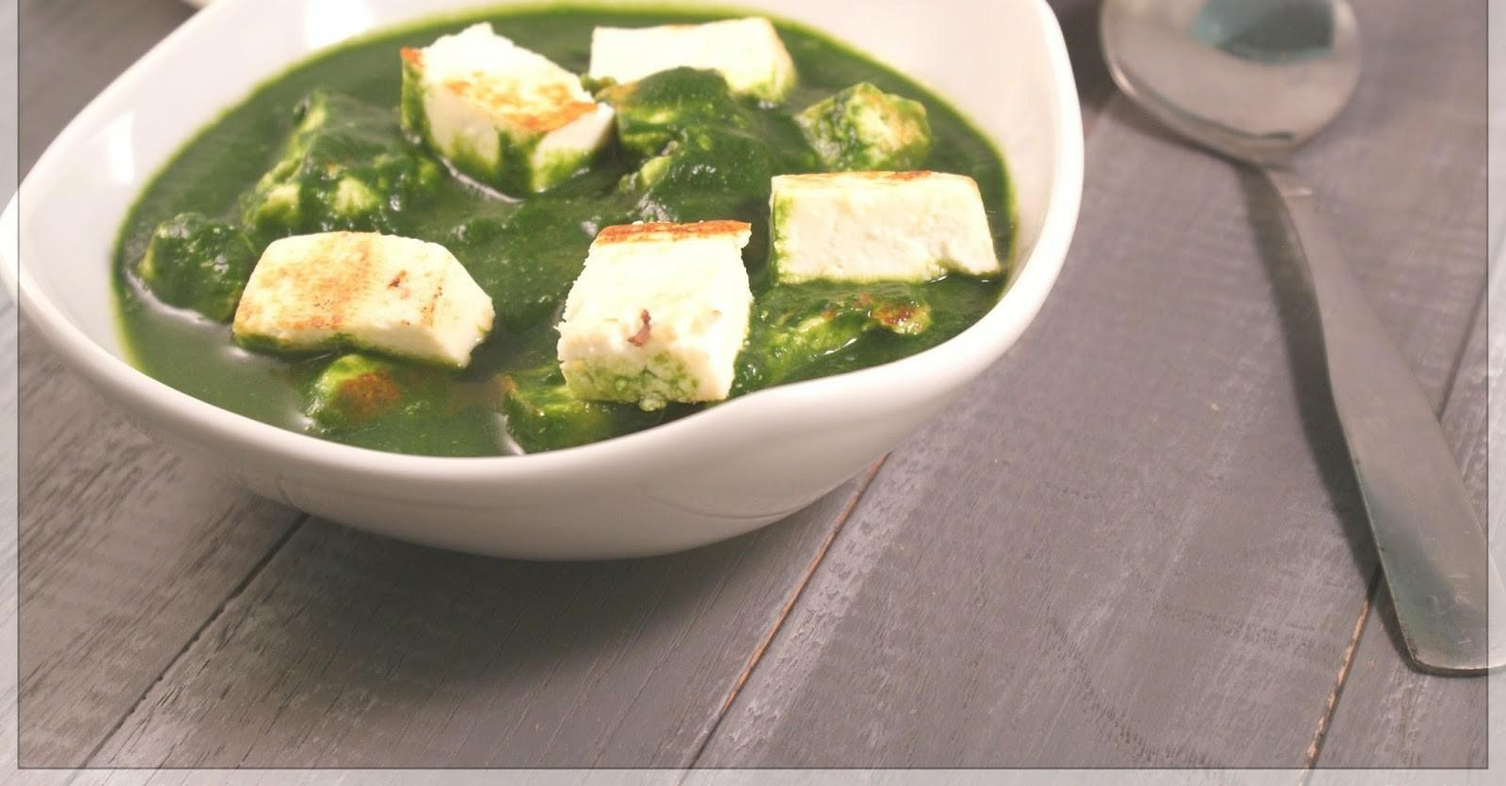PalakPaneer: (109, 3, 1017, 455)
